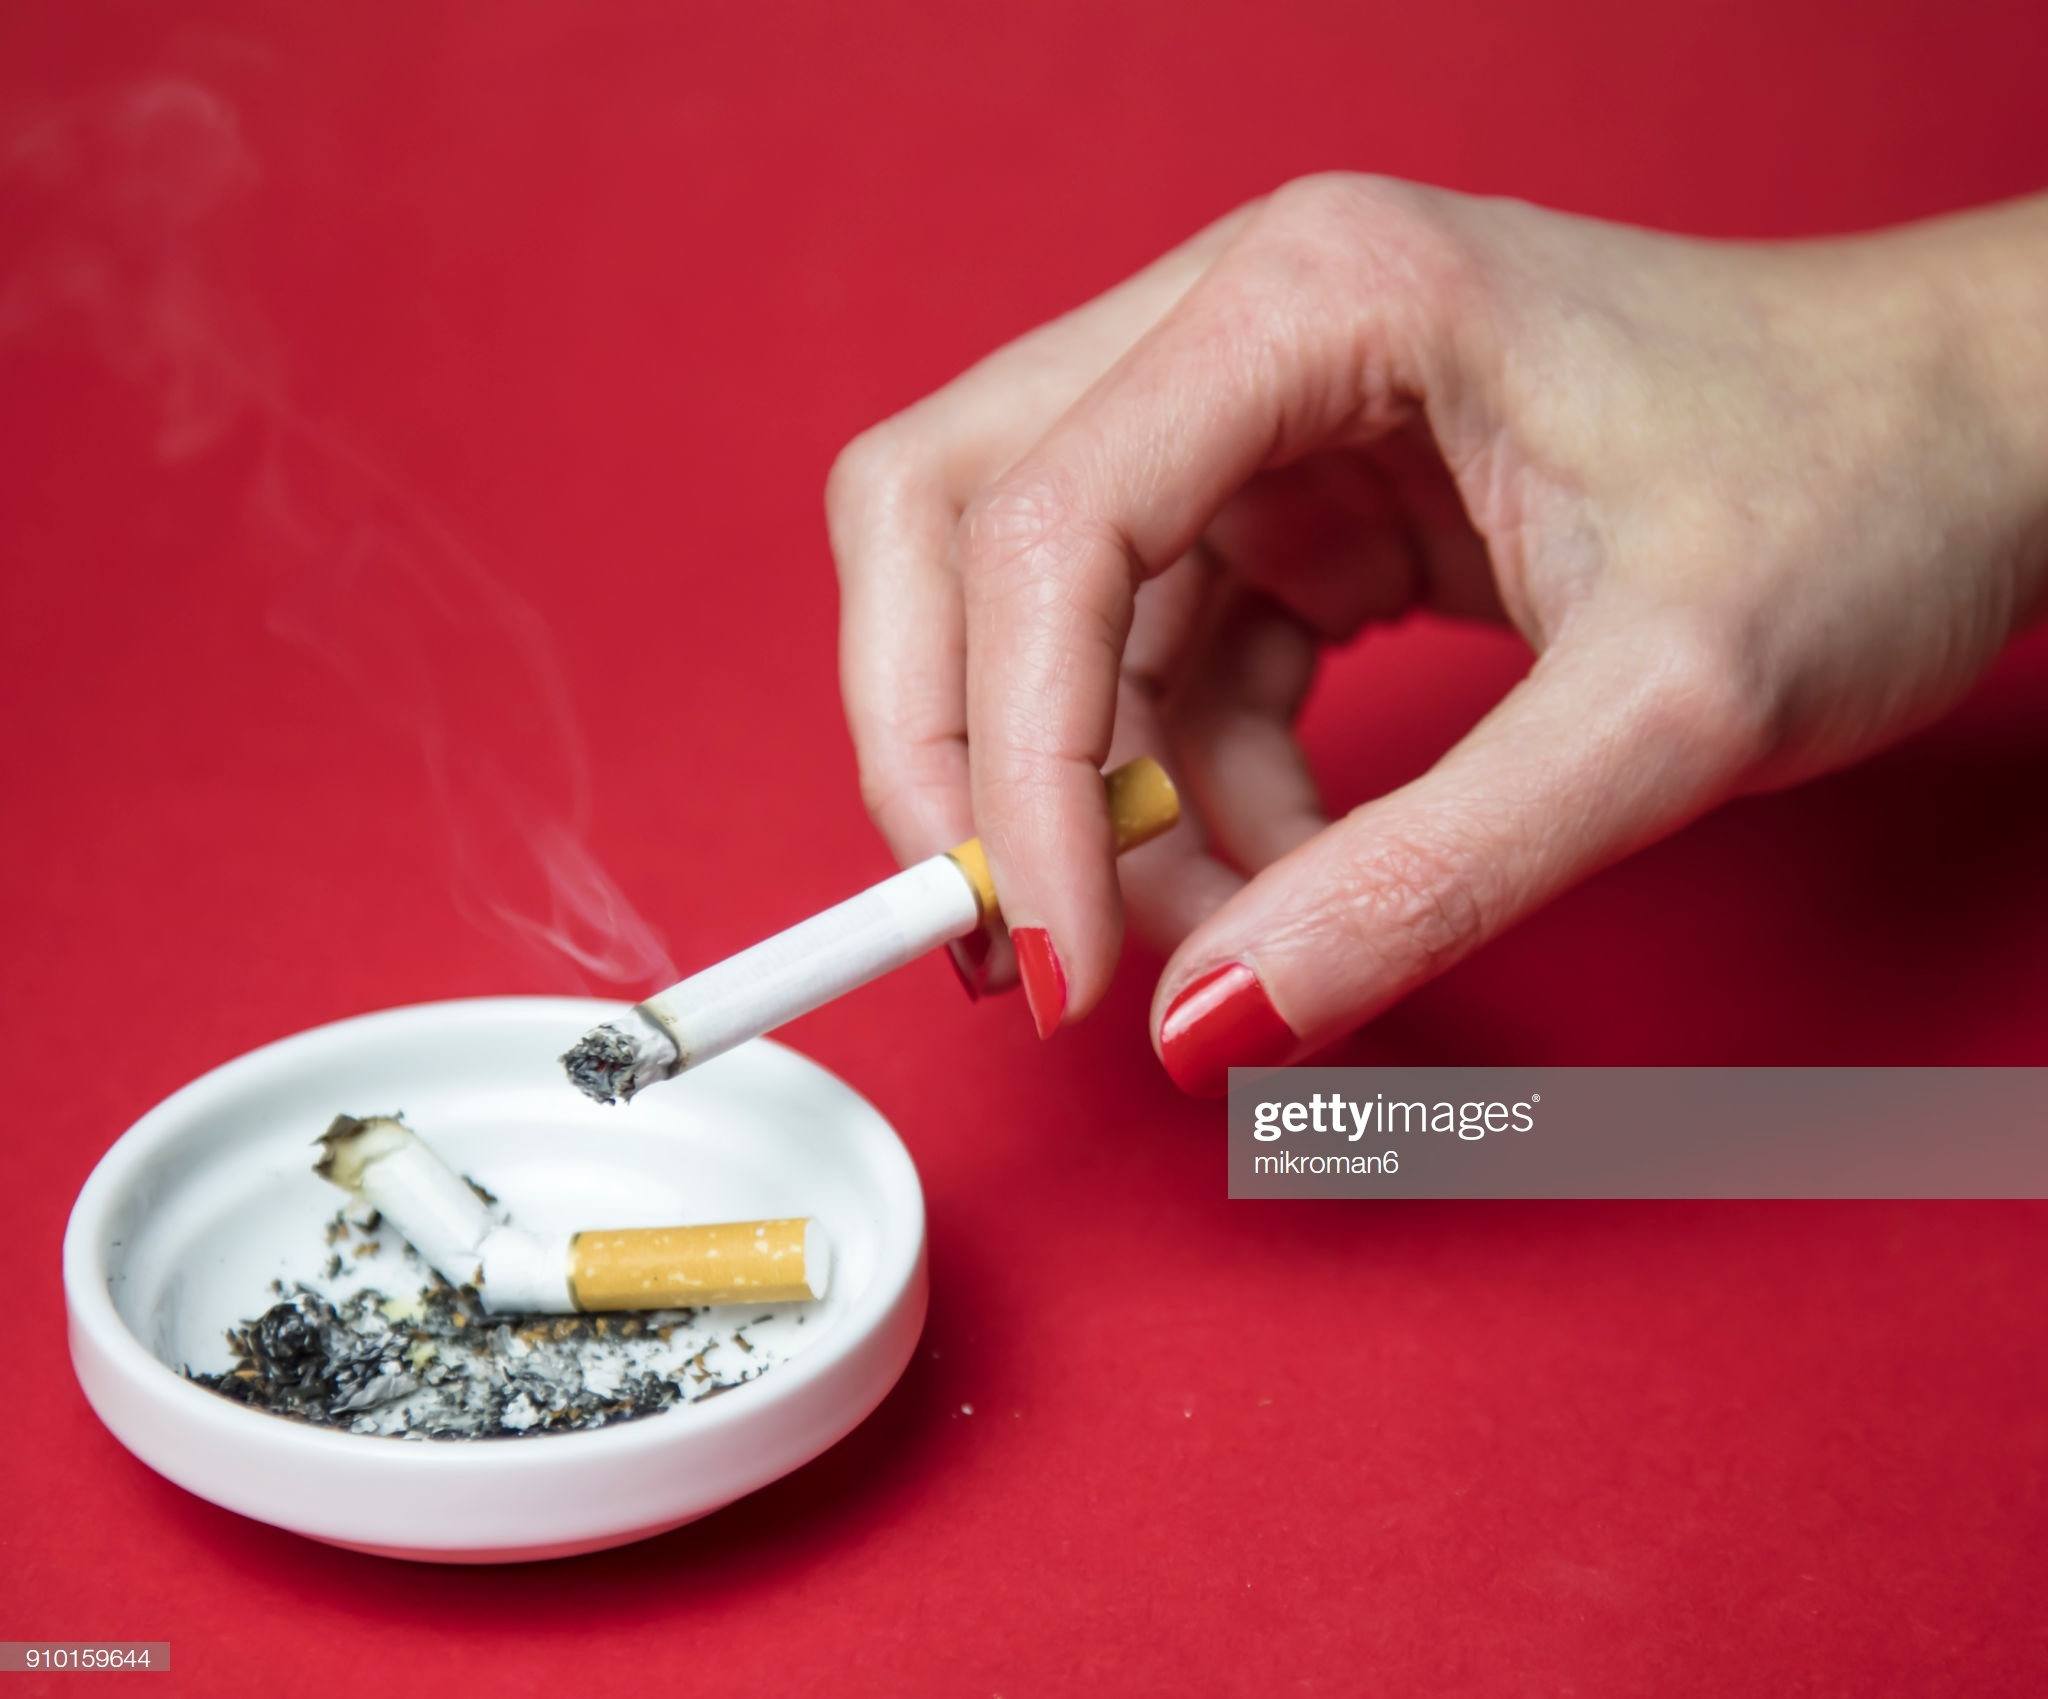sigaretta: (583, 762, 1175, 1065)
